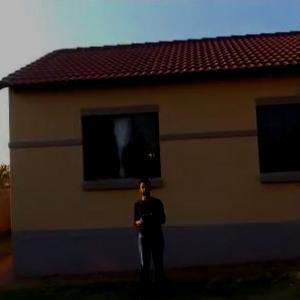follow: (130, 175, 173, 299)
